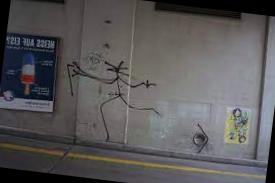graffiti: (56, 50, 165, 149)
